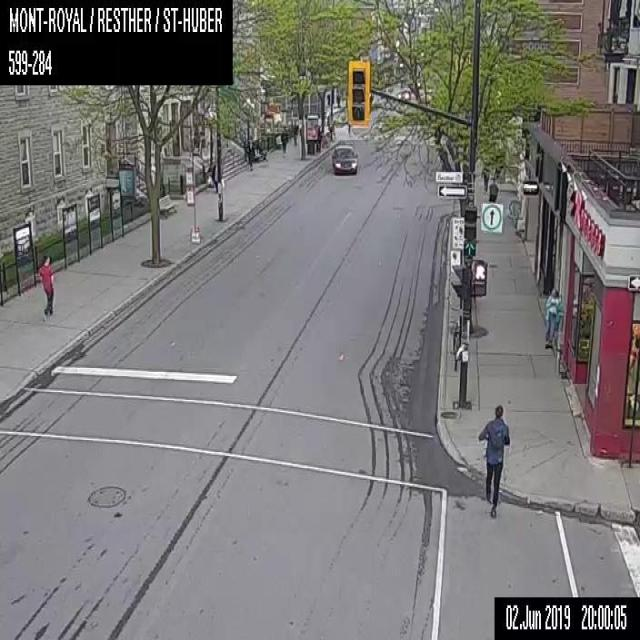pedestrian: (476, 404, 509, 516), (542, 288, 560, 346), (38, 255, 54, 320), (487, 176, 498, 202), (211, 160, 218, 191), (247, 141, 254, 170), (480, 165, 488, 190), (281, 128, 287, 156), (315, 126, 321, 151), (293, 124, 298, 144)
vehicle: (331, 143, 357, 173), (396, 88, 410, 100)
